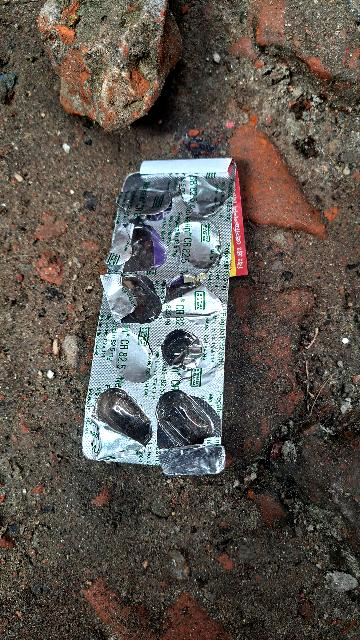medicine: (67, 132, 267, 494)
